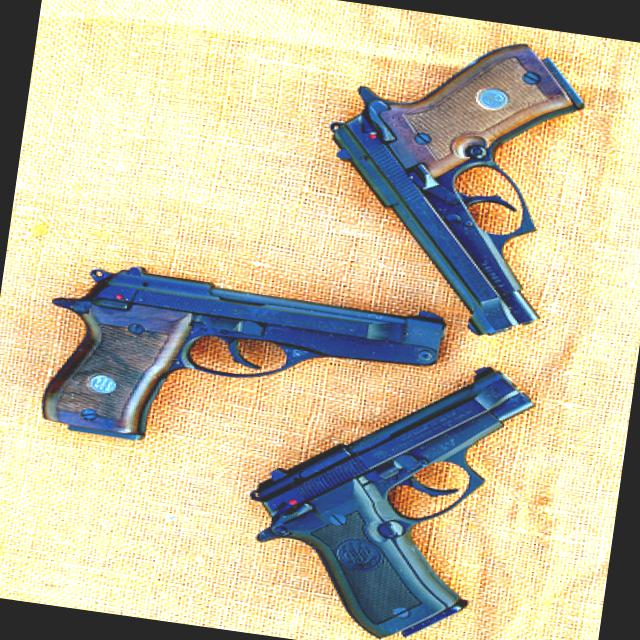handgun: (296, 16, 612, 352), (36, 256, 450, 486), (227, 338, 542, 639)
